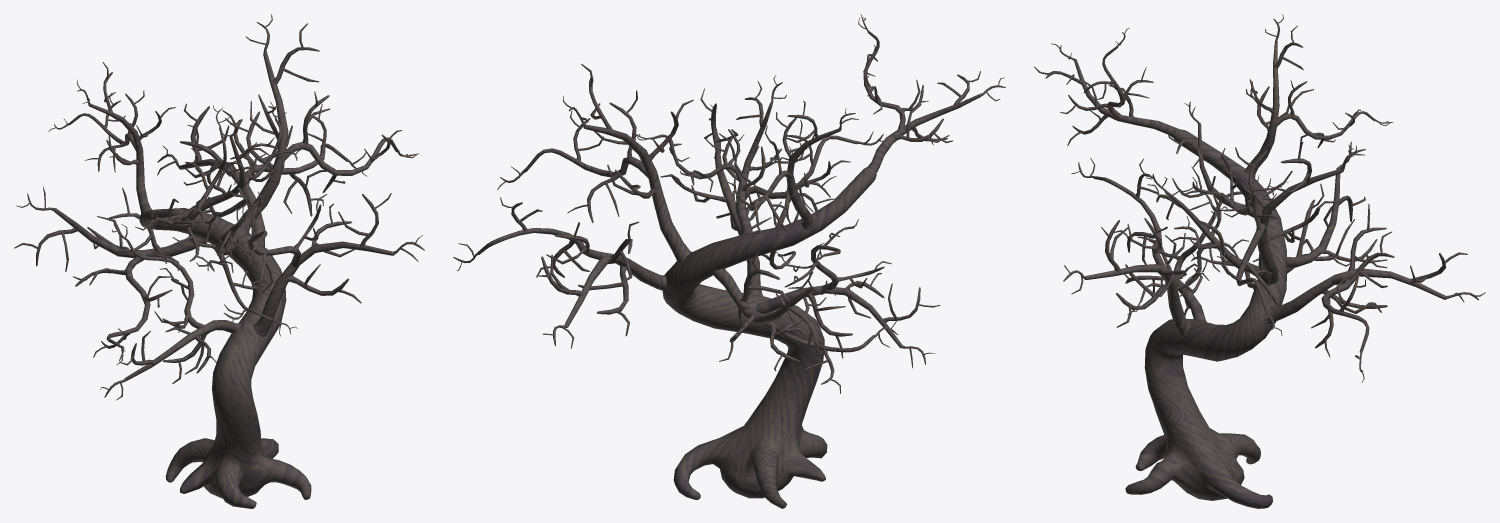
Rendered from BentTree.fbx.
The picture shows the model from 3 angles, left to right: view 1: azimuth 30°, elevation 25°; view 2: azimuth 150°, elevation 25°; view 3: azimuth 270°, elevation 25°; orthographic projection. The views are drawn at different scales.
Parts seen in each view (by area): view 1: BentTree_LOD0; view 2: BentTree_LOD0; view 3: BentTree_LOD0.
Part boxes in pixels (box(x1,y1,x2,y2)): BentTree_LOD0: box(14, 14, 424, 508); BentTree_LOD0: box(453, 14, 1005, 508); BentTree_LOD0: box(1034, 14, 1485, 508).
Size of what is drawn, in the model's own units: 1131 by 1255 by 1171.
1 material, 1 textured.
